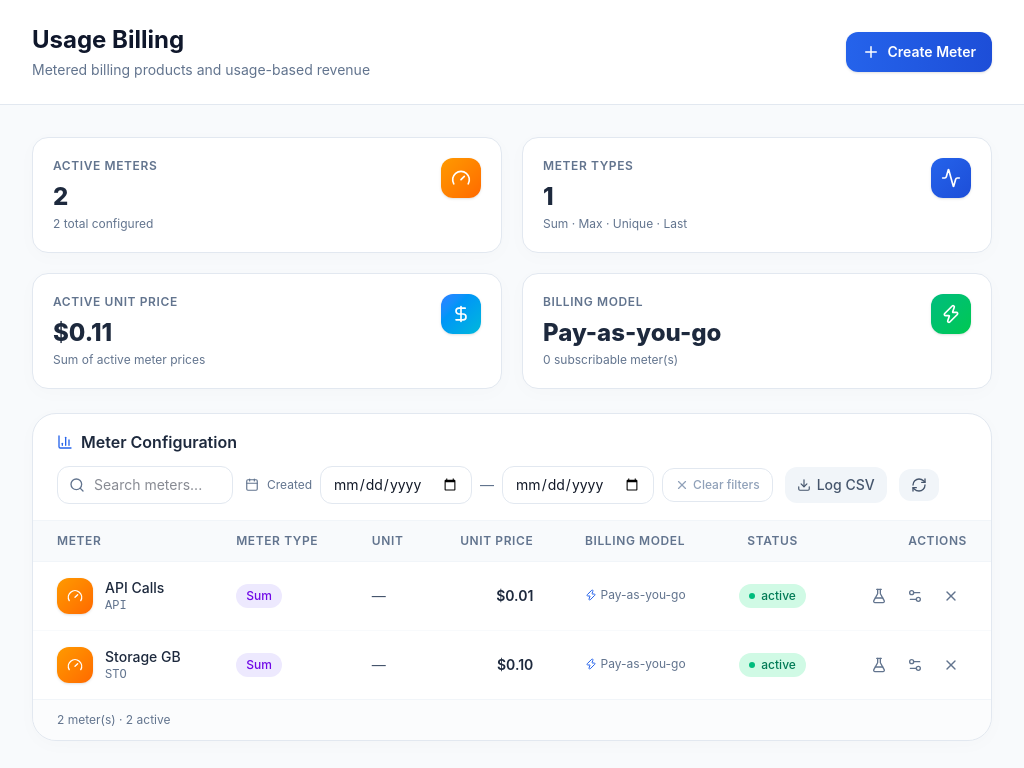
Test: BUG-12.3 Usage Billing date range › Clear filters empties both dates, removes the label and shows every meter again
Expected: the button "API Calls" is shown, [105,578,164,598]
Type "2026-01-01" into the date field named "Created from date" at (396, 485), box [320,466,472,504]
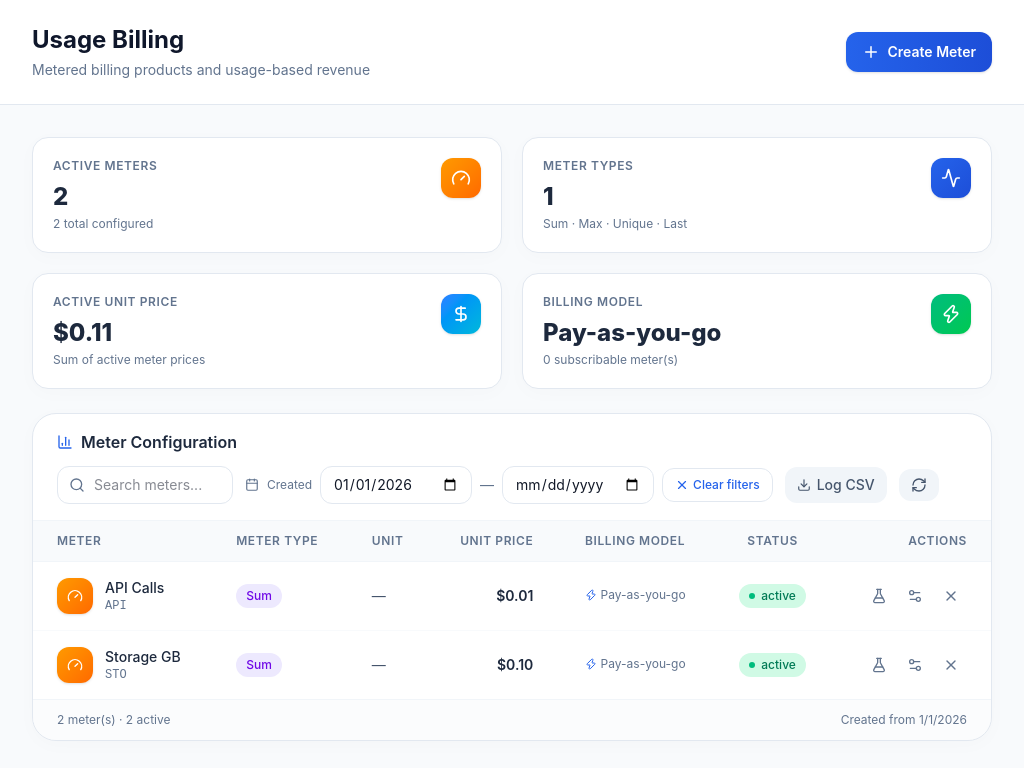
Type "2026-01-31" into the date field named "Created to date" at (578, 485), box [502,466,654,504]
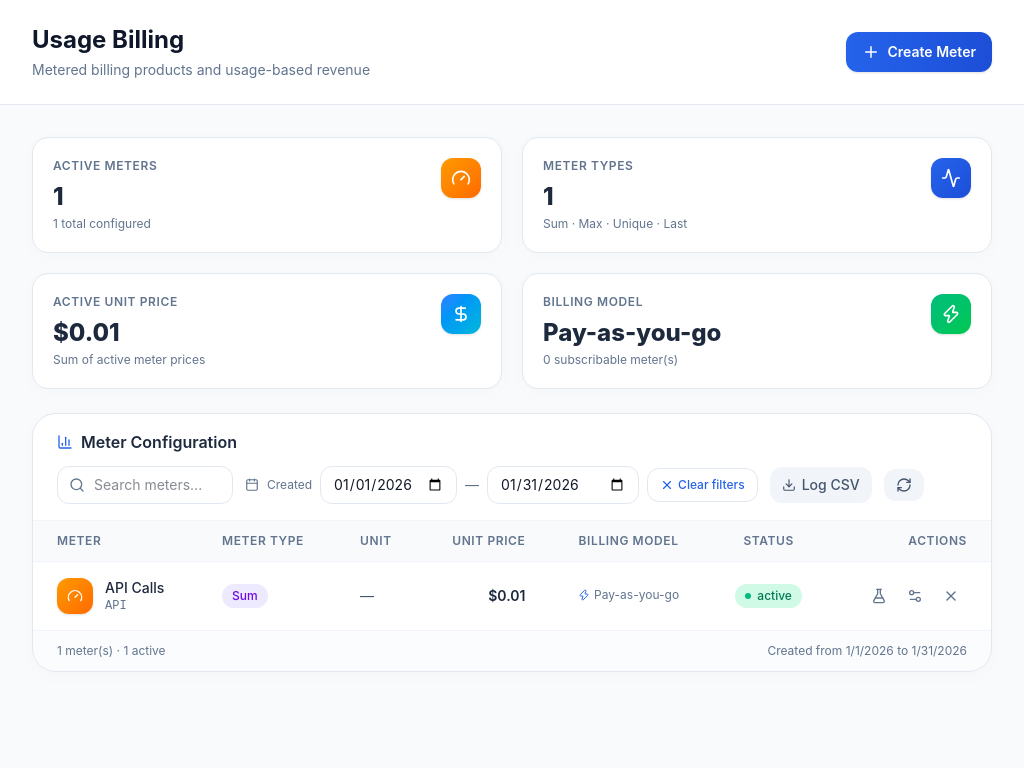
Click the button "Clear filters" at (702, 485), box [647,468,758,502]
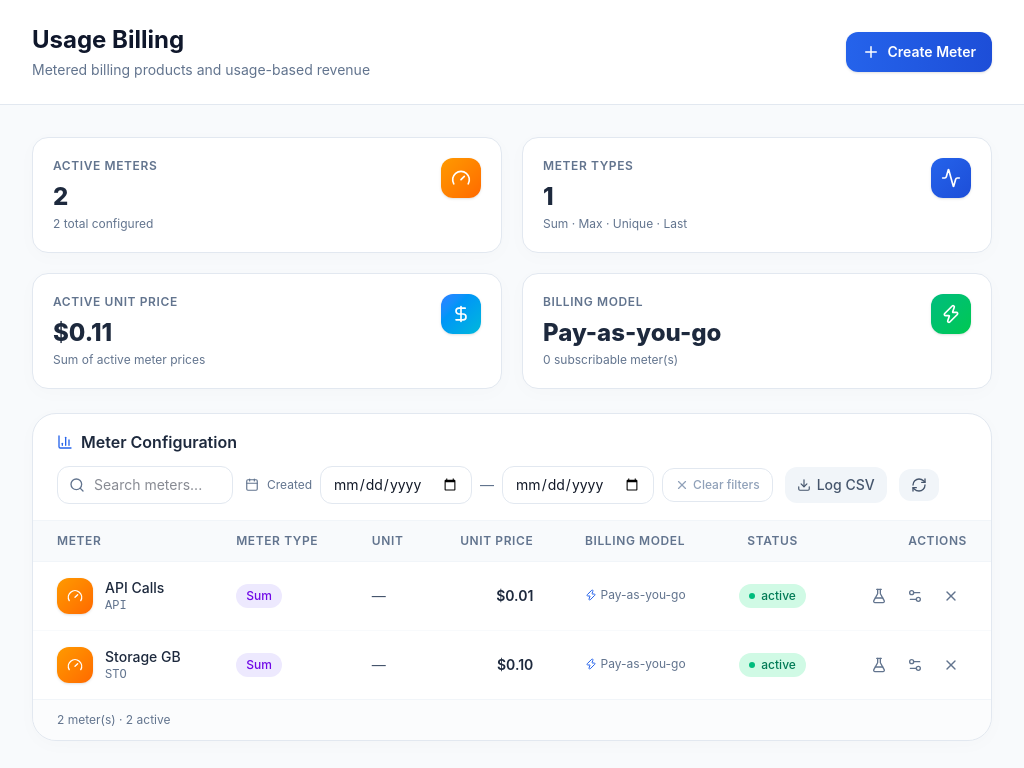
Result: the date field named "Created from date" is empty at [320,466,472,504]
Result: the date field named "Created to date" is empty at [502,466,654,504]
Result: the text "Created from " is gone
